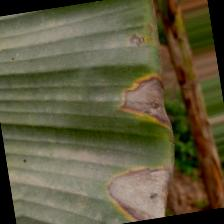cordana: (0, 0, 186, 224)
